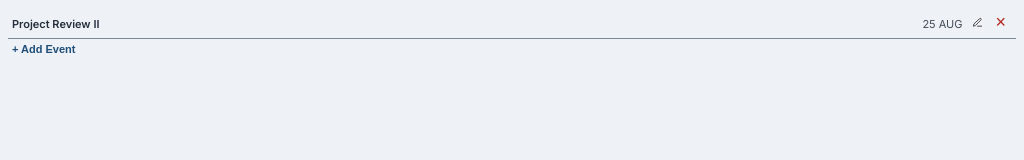
MilestoneColumn › opens a single-day event's edit form with only the start date shown, and reschedules on save
Later steps or results of the test are not shown.
Click the button titled "Move this event" at coordinates (976, 24), box x1=968 y1=17 x2=984 y2=30
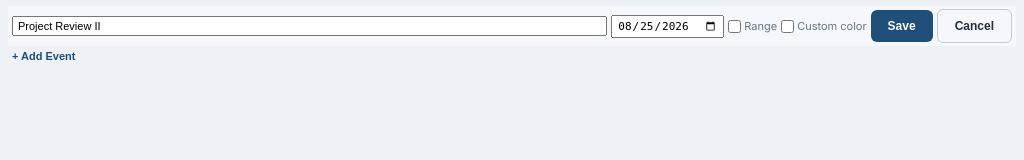
Result: the number of date fields is 1 at x1=611 y1=14 x2=724 y2=38
